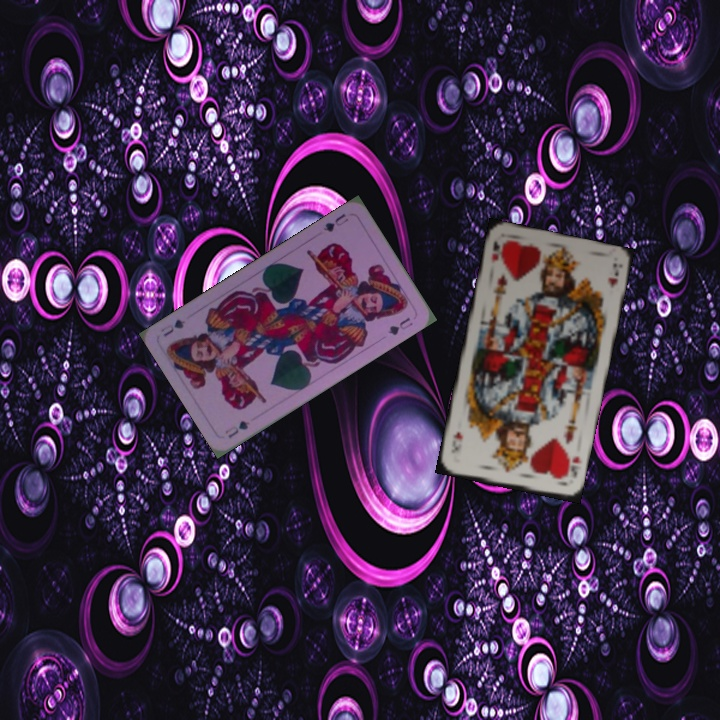GU: (319, 209, 351, 235), (221, 416, 253, 441)
HK: (560, 452, 584, 482), (488, 236, 502, 266)
